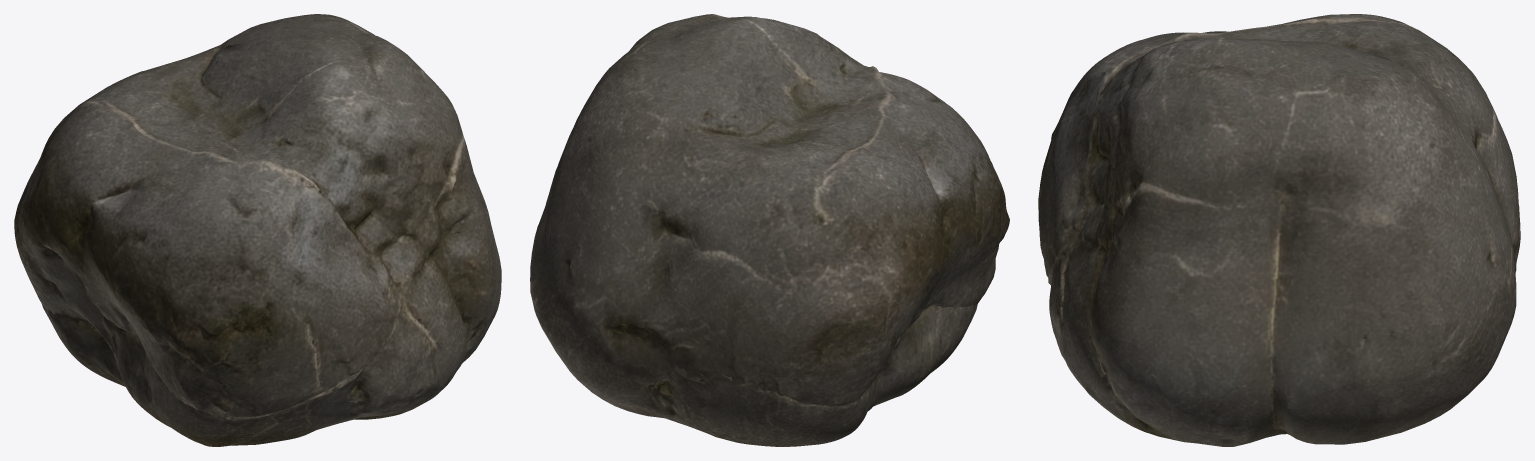
The model's file is river-boulder-hero-v21-lod.glb.
The picture shows the model from 3 angles, left to right: view 1: azimuth 30°, elevation 25°; view 2: azimuth 150°, elevation 25°; view 3: azimuth 270°, elevation 25°; orthographic projection. The views are drawn at different scales.
Visible parts, largest first — view 1: geometry_0; view 2: geometry_0; view 3: geometry_0.
Boxes of the visible parts, x1,y1,x2,y2 form: geometry_0: [14, 14, 501, 446]; geometry_0: [530, 14, 1009, 446]; geometry_0: [1038, 14, 1520, 446].
Size of the model in its own units: 0.3498 by 0.2982 by 0.3489.
1 material, 1 textured.
